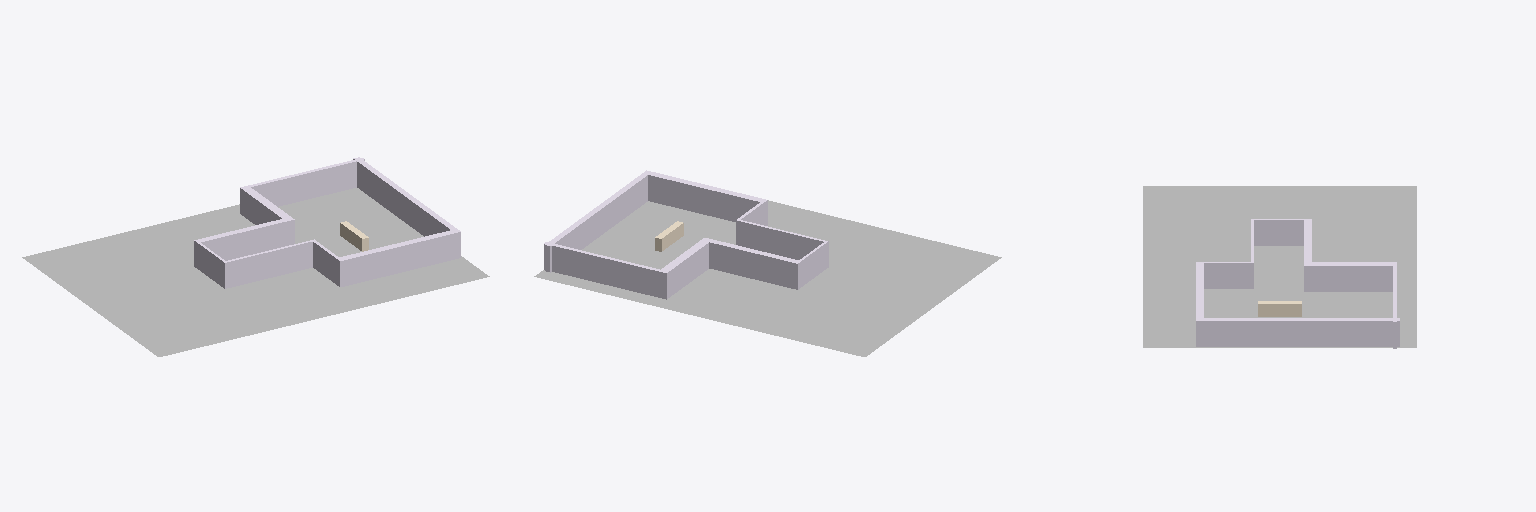
File: TestMap.obj
The picture shows the model from 3 angles: view 1: azimuth 30°, elevation 25°; view 2: azimuth 150°, elevation 25°; view 3: azimuth 270°, elevation 25°; orthographic projection.
Parts seen in each view (by area): view 1: Plane, Cube; view 2: Plane, Cube; view 3: Plane, Cube, Cube.001.
Boxes of the visible parts, <box> form: Plane: <box>22,188,489,356</box>; Cube: <box>194,157,460,288</box>; Plane: <box>534,200,1001,356</box>; Cube: <box>544,170,828,299</box>; Plane: <box>1143,186,1416,347</box>; Cube: <box>1196,219,1399,348</box>; Cube.001: <box>1258,301,1301,316</box>.
Size of the model in its own units: 101 by 8.8 by 72.32.